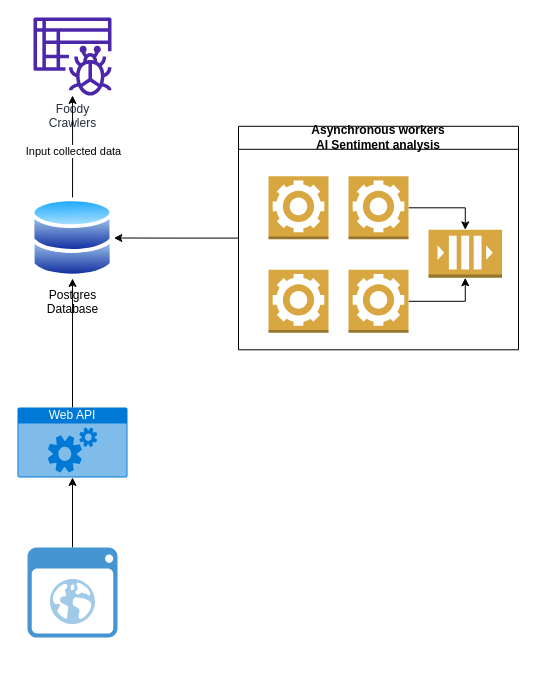
Some shapes in this 536 by 675 pixel diagram are drawn without their labels. Here are the shapes that lost their labels. From the top down, the centre of each, then its label:
At point (465, 253): "Queue".
At point (72, 592): "WebUI".
